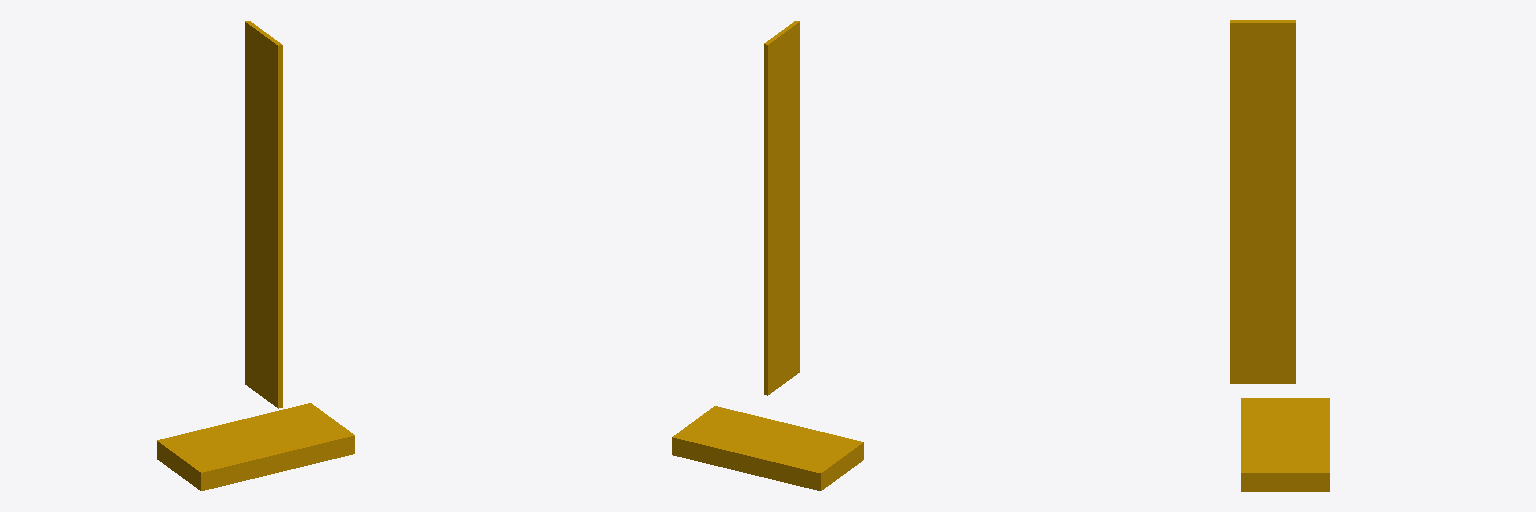
robot.urdf — threedofexample:
<?xml version="1.0"?>

<robot name="threedofexample">

  <!-- ******************************************************** -->
  <!-- ******************* Kinematic Chain ******************** -->
  <!-- ******************************************************** -->
  <!-- Note the 'origin' tag in the joints defines the shift and
       reorientation, i.e. the transform.  For moving joints, this
       happens before the continuous joint rotates around 'axis'. -->

  <!-- World can't take a visual element (at least in Gazebo). -->
  <link name="world"/>

  <joint name="placement" type="fixed">
    <parent link="world"/>
    <child  link="baseplate"/>
    <origin xyz="0 0 0" rpy="0 0 0"/>			<!-- WHERE IS THE BASE -->
  </joint>

  <!-- BASE PLATE: Shift across the base plate to the base motor. --> 
  <link name="baseplate">
    <visual>
      <origin xyz="0.0 0.025 0.0125" rpy="0 0 0"/>
      <geometry>
	<box size="0.2 0.1 0.0230"/>
      </geometry>
      <material name="wood"/>
    </visual>
  </link>

  <joint name="baseplate" type="fixed">
    <parent link="baseplate"/>
    <child  link="basemotor"/>
    <origin xyz="0 0 0.0230" rpy="0 0 -1.5708"/>
  </joint>

  <!-- BASE MOTOR: Thickness: X5 = 31.1mm, X8 = 45.1mm -->
  <link name="basemotor">
    <visual>
      <geometry>
        <mesh filename="package://basic134/meshes/X8.stl"
	      scale="0.001 0.001 0.001"/>
      </geometry>
      <material name="hebi"/>
    </visual>
  </link>

  <joint name="base" type="continuous">
    <parent link="basemotor"/>
    <child  link="lbracket"/>
    <origin xyz="0 0 0.0451" rpy="0 0 0"/>
    <axis   xyz="0 0 1"/>
  </joint>

  <!-- L BRACKET: Shift and rotate across the L bracket. -->
  <link name="lbracket">
    <!-- Add a visual element -->
  </link>

  <joint name="lbracket" type="fixed">
    <parent link="lbracket"/>
    <child  link="shouldermotor"/>
    <origin xyz="0 -0.04025 0.059" rpy="-1.5708 1.5708 0"/>	  <!-- L BRACKET DIMENIONS -->
  </joint>

  <!-- SHOULDER MOTOR: Thickness: X5 = 31.1mm, X8 = 45.1mm -->
  <link name="shouldermotor">
    <visual>
      <geometry>
        <mesh filename="package://basic134/meshes/X5.stl"
	      scale="0.001 0.001 0.001"/>
      </geometry>
      <material name="hebi"/>
    </visual>
  </link>

  <joint name="shoulder" type="continuous">
    <parent link="shouldermotor"/>
    <child  link="upperarm"/>
    <origin xyz="0 0 0.0331" rpy="0 0 3.1416"/>
    <axis   xyz="0 0 1"/>
  </joint>

  <!-- UPPER ARM: Shift across the upper arm (1/4in thickness) -->
  <link name="upperarm">
    <visual>
      <origin xyz="0.185 0 0.00285" rpy="0 0 0"/>
      <geometry>
	<box size="0.45 0.0745 0.00570"/>
      </geometry>
      <material name="wood"/>
    </visual>
    <!-- Add a visual element -->
  </link>

  <joint name="upperarm" type="fixed">
    <parent link="upperarm"/>
    <child  link="elbowmotor"/>
    <origin xyz="0.379 0 0.0057" rpy="0 0 0"/>		  <!-- UPPER ARM DIMENIONS -->
  </joint>

  <!-- Elbow motor.  Thickness: X5 = 31.1mm, X8 = 45.1mm -->
  <link name="elbowmotor">
    <visual>
      <geometry>
        <mesh filename="package://basic134/meshes/X5.stl"
	      scale="0.001 0.001 0.001"/>
      </geometry>
      <material name="hebi"/>
    </visual>
  </link>

  <joint name="elbow" type="continuous">
    <parent link="elbowmotor"/>
    <child  link="lowerarm"/>
    <origin xyz="0 0 0.0311" rpy="0 0 0"/>
    <axis   xyz="0 0 1"/>
  </joint>

  <!-- Shift across the upper arm (1/4in thickness) -->
  <link name="lowerarm">
    <visual>
      <geometry>
        <mesh filename="package://basic134/meshes/basiclink.stl"
	      scale="0.7 0.7 0.7"/>
      </geometry>
      <material name="wood"/>
    </visual>
  </link>

  <joint name="lowerarm" type="fixed">
    <parent link="lowerarm"/>
    <child  link="tip"/>
    <origin xyz="0.37 0 0.00285" rpy="0 0 0"/>		  <!-- UPPER ARM DIMENIONS -->
  </joint>

  <!-- TIP FRAME -->
  <link name="tip"/>

  
  <!-- *************************************************** -->
  <!-- *************** Visual Link Elements ************** -->
  <!-- *************************************************** -->
  <!-- Note collada .dae files have better color/texture   -->
  <!-- suppport that STL files.                            -->

  <!-- Colors -->
  <material name="wood">  <color rgba="0.82 0.62 0.04 1"/>  </material>
  <material name="hebi">  <color rgba="0.82 0.06 0.06 1"/>  </material>

</robot>

--- Render facts (derived) ---
3 views of the same robot in one strip: view 1: azimuth 30°, elevation 25°; view 2: azimuth 150°, elevation 25°; view 3: azimuth 270°, elevation 25° (orthographic).
Model threedofexample with 9 links and 8 joints (3 continuous, 5 fixed), rooted at world, posed every joint at zero.
Links seen in each view (by area): view 1: upperarm, baseplate; view 2: upperarm, baseplate; view 3: upperarm, baseplate.
Boxes of the visible links, x1,y1,x2,y2 form: upperarm: [245, 21, 282, 408]; baseplate: [157, 403, 354, 490]; upperarm: [764, 21, 799, 395]; baseplate: [672, 406, 863, 490]; upperarm: [1230, 20, 1295, 383]; baseplate: [1241, 398, 1329, 491].
Size in the robot's own frame: 0.2 by 0.1123 by 0.5361 metres.
Meshes: 3 distinct files referenced, 0 mesh visuals loaded (none loaded); not drawn: 4 (file found but could not be loaded).